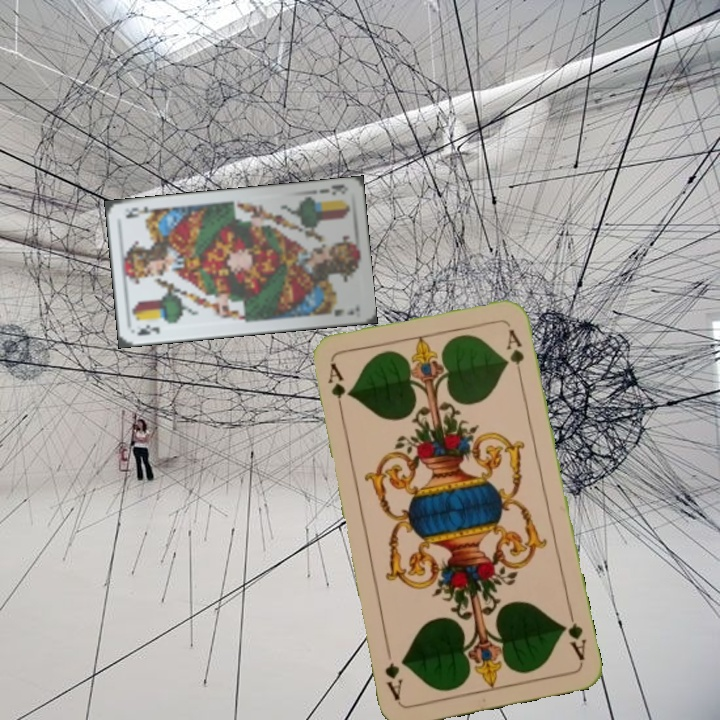EK: (316, 180, 348, 198), (134, 321, 162, 339)
GA: (558, 605, 589, 663), (324, 359, 347, 418)
